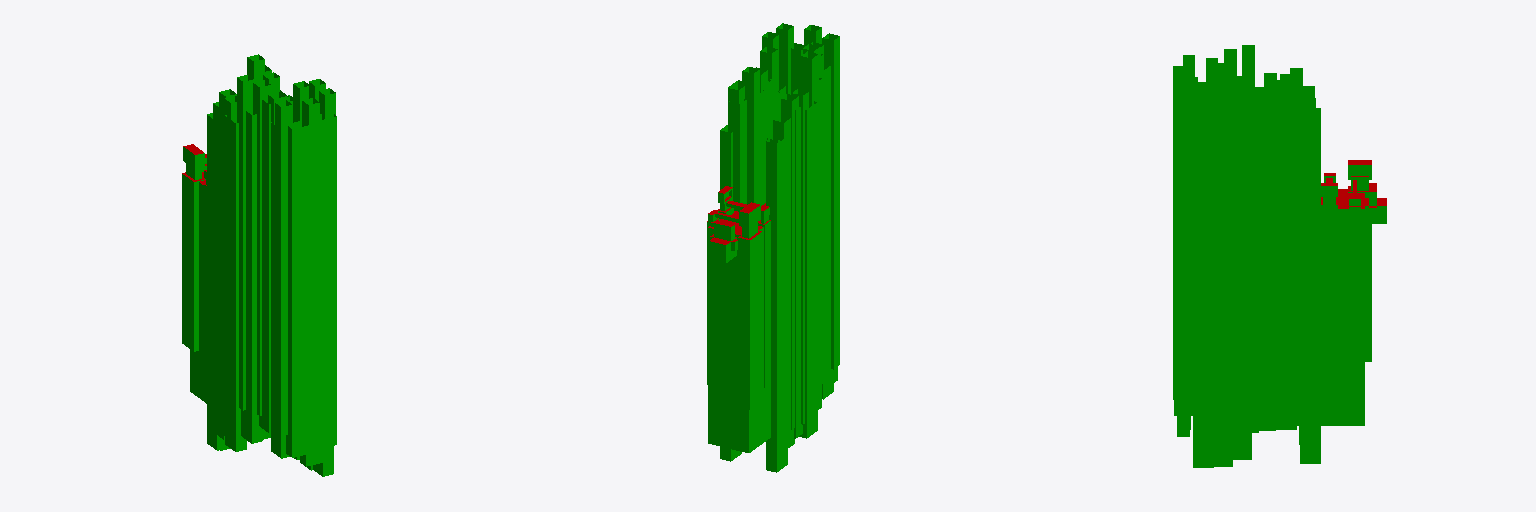
File: spavn.obj
3 views of the same model, side by side, from view 1: azimuth 30°, elevation 25°; view 2: azimuth 150°, elevation 25°; view 3: azimuth 270°, elevation 25° (orthographic).
Visible parts, largest first — view 1: Куб.019, pol; view 2: Куб.019, pol; view 3: Куб.019, pol.
Part boxes in pixels (bbox=[...]): Куб.019: bbox=[207, 54, 336, 476]; pol: bbox=[182, 144, 206, 403]; Куб.019: bbox=[720, 23, 839, 472]; pol: bbox=[707, 186, 770, 452]; Куб.019: bbox=[1173, 45, 1320, 467]; pol: bbox=[1321, 160, 1386, 425].
Size of the model in its own units: 3.39 by 18.12 by 8.95.